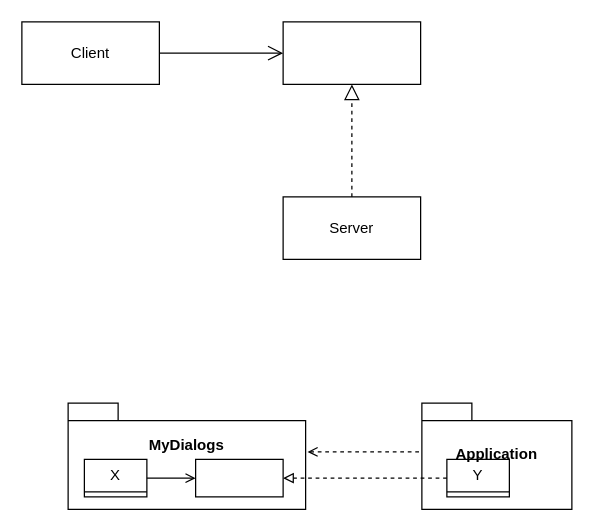
The diagram is 594 pixels wide and 531 high, and some of its shapes have lost their labels. The centre of each missing label's shape, as x and y in pixels:
«interface» Client Interface: the point at 351,52
«interface» X Interface: the point at 238,477
